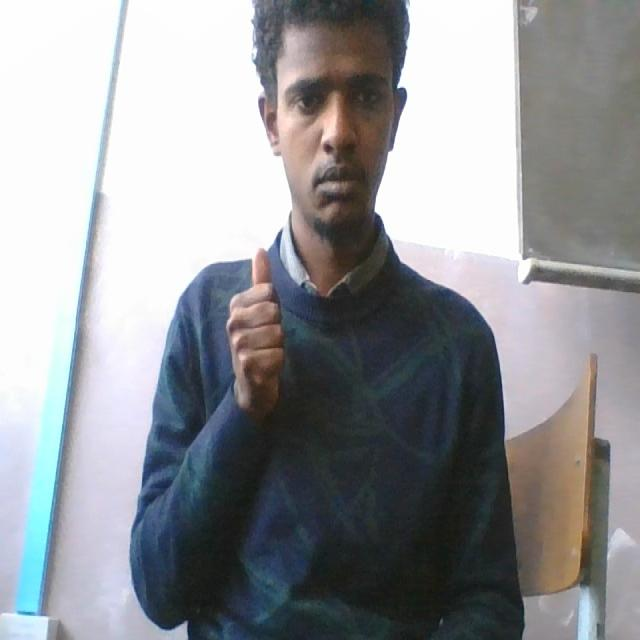akst: (211, 236, 326, 440)
